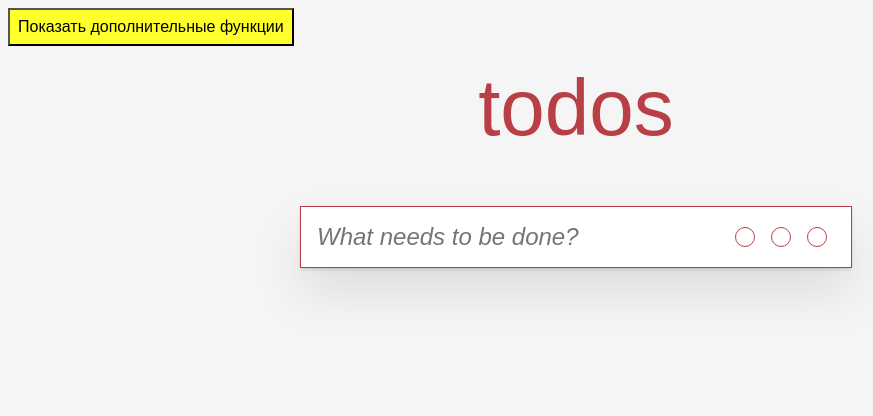
Scenario: Todo App › cancels edit on escape
This screenshot has width=873, height=416.
Step 1. Type "Original Task" into the field with placeholder "What needs to be done?" → coordinates (507, 237), box [301,207,714,267]
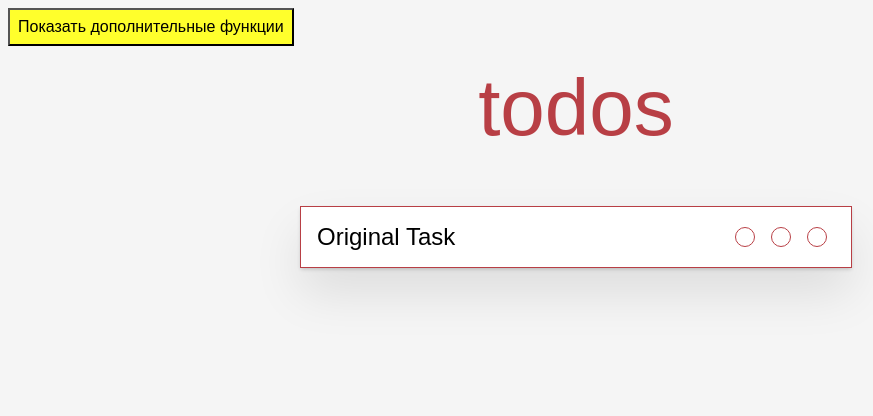
Submit the form
Step 2. Submit the form with placeholder "What needs to be done?", box [301,207,851,267]
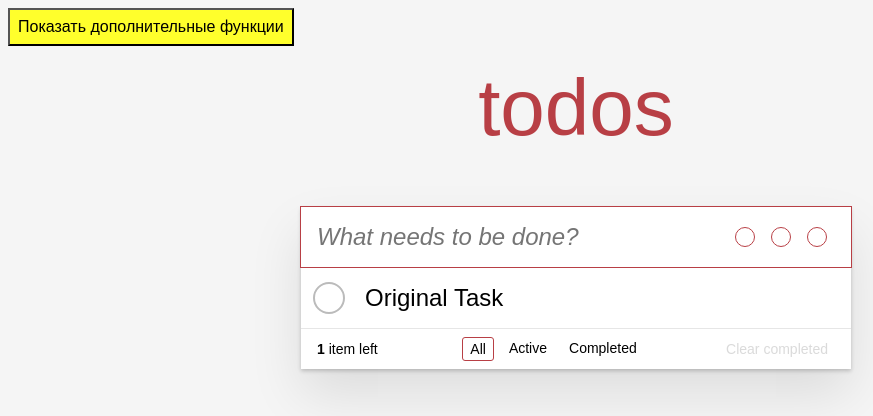
Step 3. Double-click the text "Original Task" → coordinates (434, 298), box [365,284,503,311]
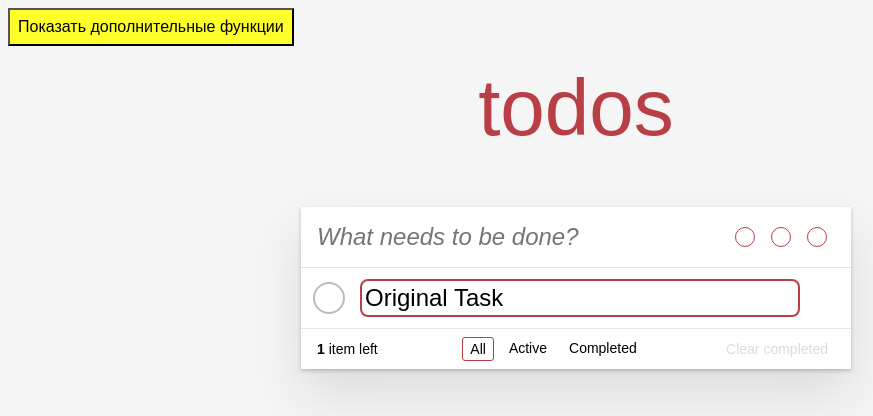
Step 4. Replace the text in the field showing "Original Task" with "Changed Text" → coordinates (580, 298), box [365,284,795,312]
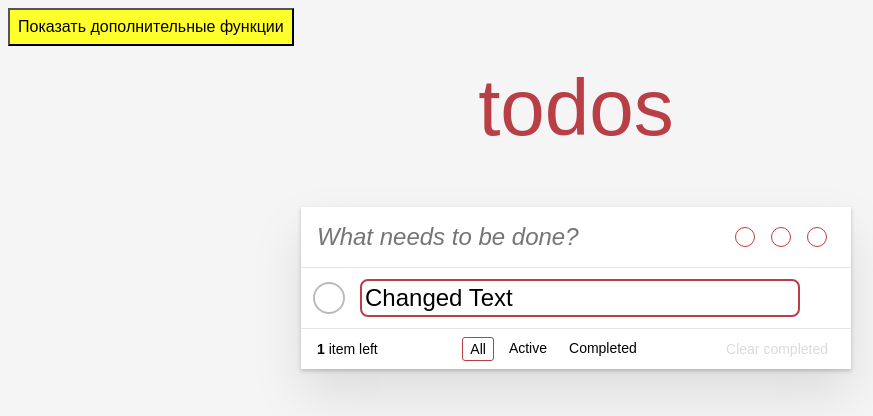
Step 5. Press Escape
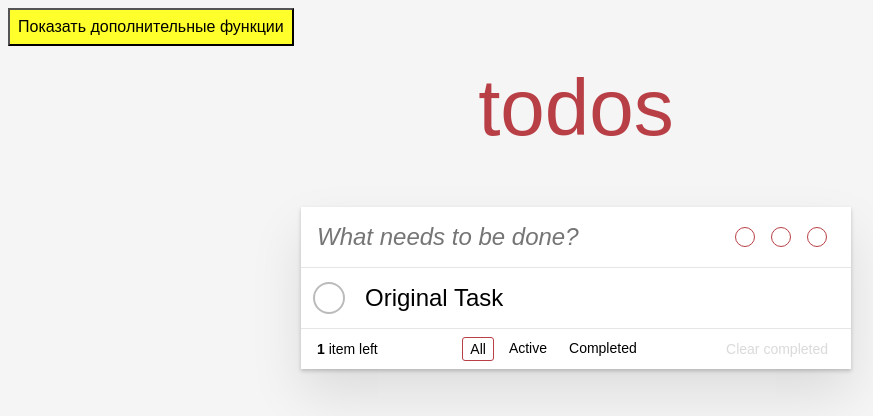
Expected: the text "Changed Text" is not shown
Now the text "Original Task" is shown, box [365,284,503,311]
